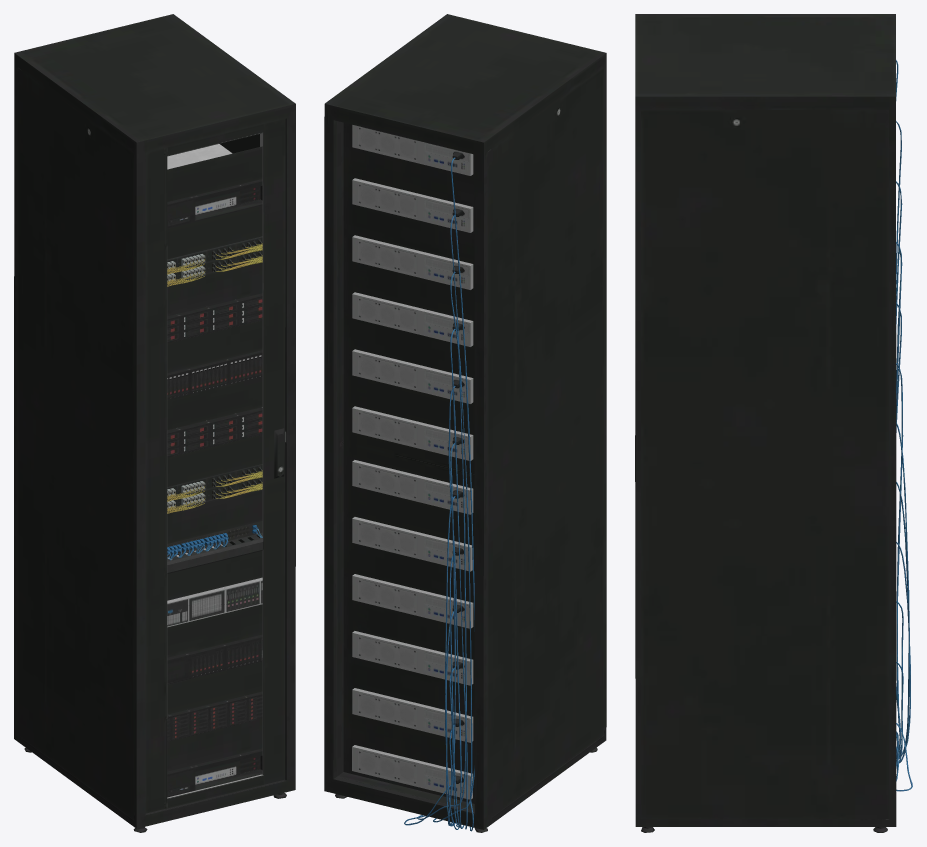
File: rack.glb
3 renders of one model, left to right at view 1: azimuth 30°, elevation 25°; view 2: azimuth 150°, elevation 25°; view 3: azimuth 270°, elevation 25°, orthographic. The views are drawn at different scales.
Visible parts, largest first — view 1: SM_Server_Case_001, SM_Server_Case_Door_001, SM_Servers_1_001_1, SM_Server_7_001, SM_Servers_2_001, SM_Servers_2_001_1, SM_Servers_5_001, SM_Server_6_001, SM_Servers_4_001, SM_Servers_3_001, SM_Server_8_001_1, SM_Servers_1_001 (+1 smaller); view 2: SM_Server_Case_001, SM_Back_001; view 3: SM_Server_Case_001, SM_Back_001.
Part boxes in pixels (<box>): SM_Server_Case_001: <box>14,14,295,832</box>; SM_Server_Case_Door_001: <box>145,118,285,813</box>; SM_Servers_1_001_1: <box>167,144,262,228</box>; SM_Server_7_001: <box>167,521,263,573</box>; SM_Servers_2_001: <box>167,407,262,457</box>; SM_Servers_2_001_1: <box>167,293,262,343</box>; SM_Servers_5_001: <box>167,691,262,741</box>; SM_Server_6_001: <box>167,544,262,627</box>; SM_Servers_4_001: <box>167,634,262,684</box>; SM_Servers_3_001: <box>167,350,262,399</box>; SM_Server_8_001_1: <box>167,236,262,286</box>; SM_Servers_1_001: <box>167,748,262,797</box>; SM_Server_Case_001: <box>324,14,606,832</box>; SM_Back_001: <box>352,125,474,831</box>; SM_Server_Case_001: <box>635,14,896,832</box>; SM_Back_001: <box>896,60,912,791</box>.
Size of what is drawn, in the model's own units: 0.6 by 2.5 by 0.852.
Materials: 3 (3 with a texture image).
